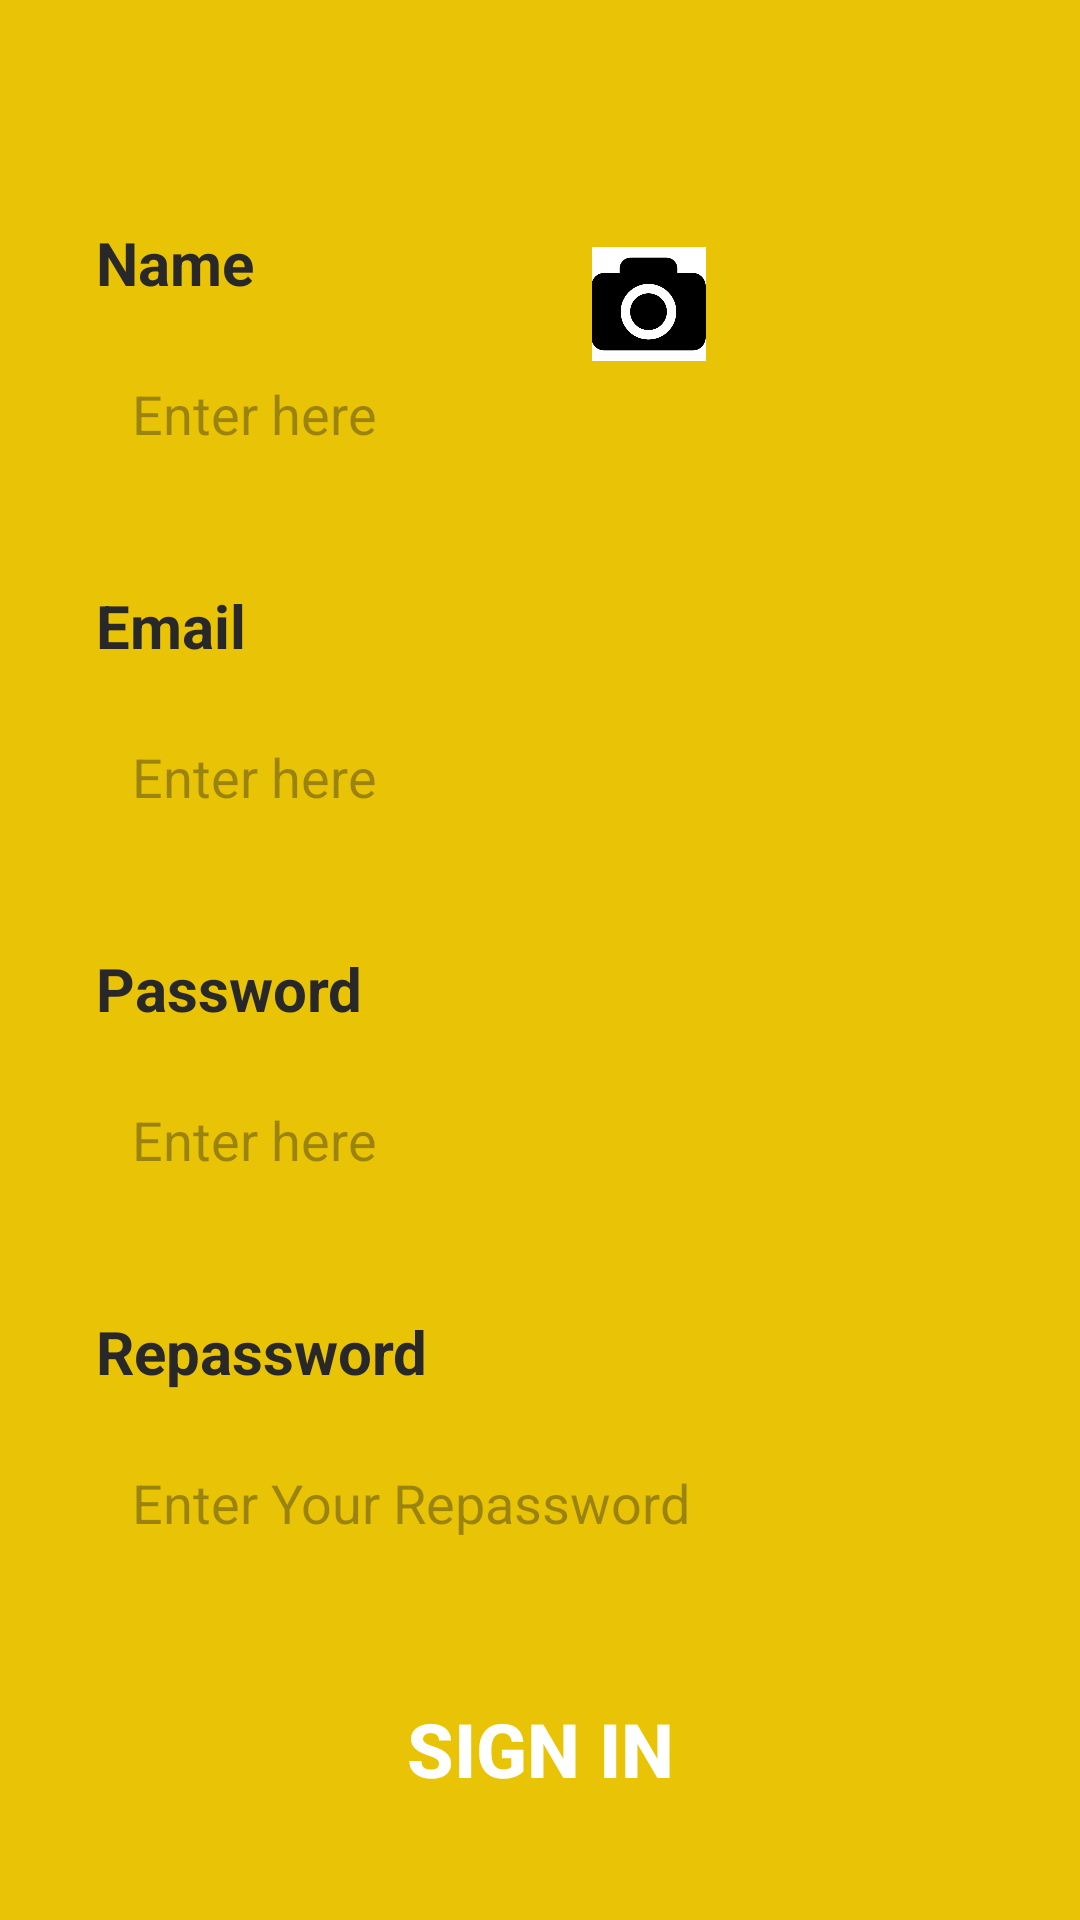

Point at icon controls on the screen. Image size 1080px×1920px, points as (x,y).
cam: (649,304)
